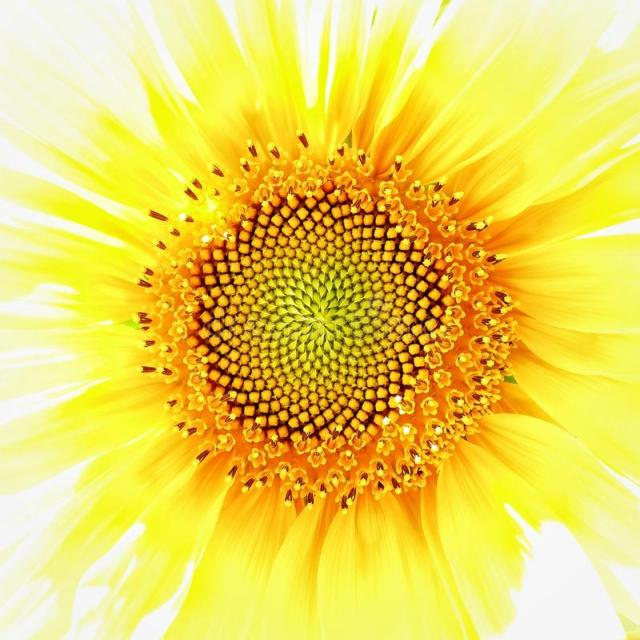sunflower: (6, 3, 640, 626)
